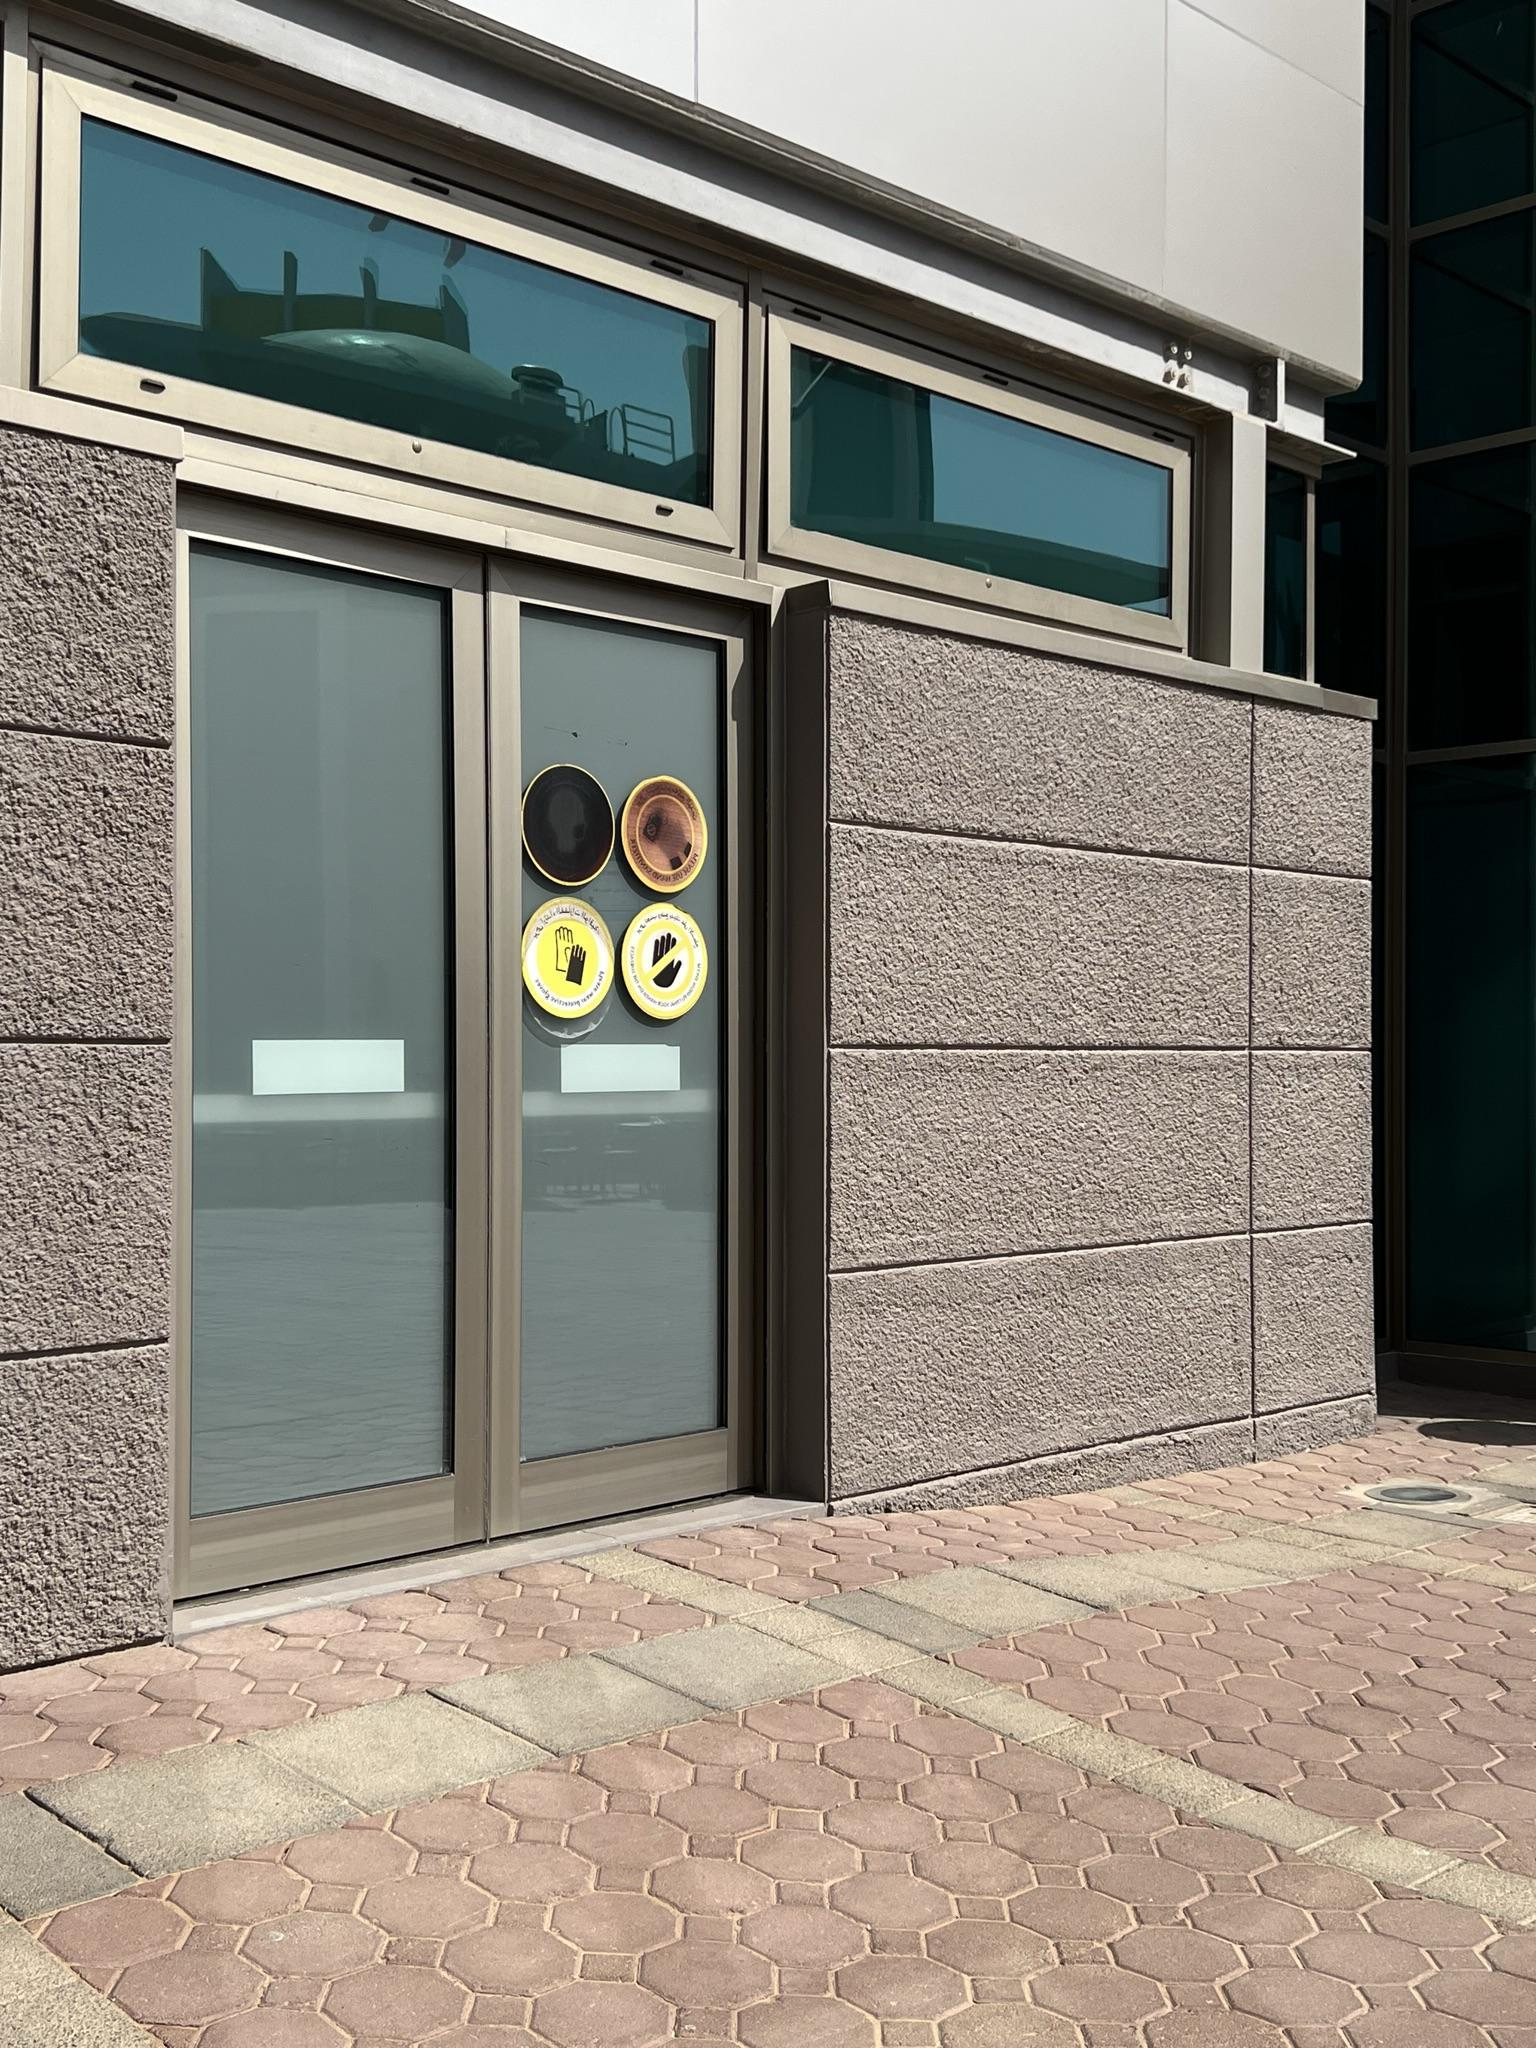door: (168, 540, 474, 1590), (466, 561, 794, 1530)
